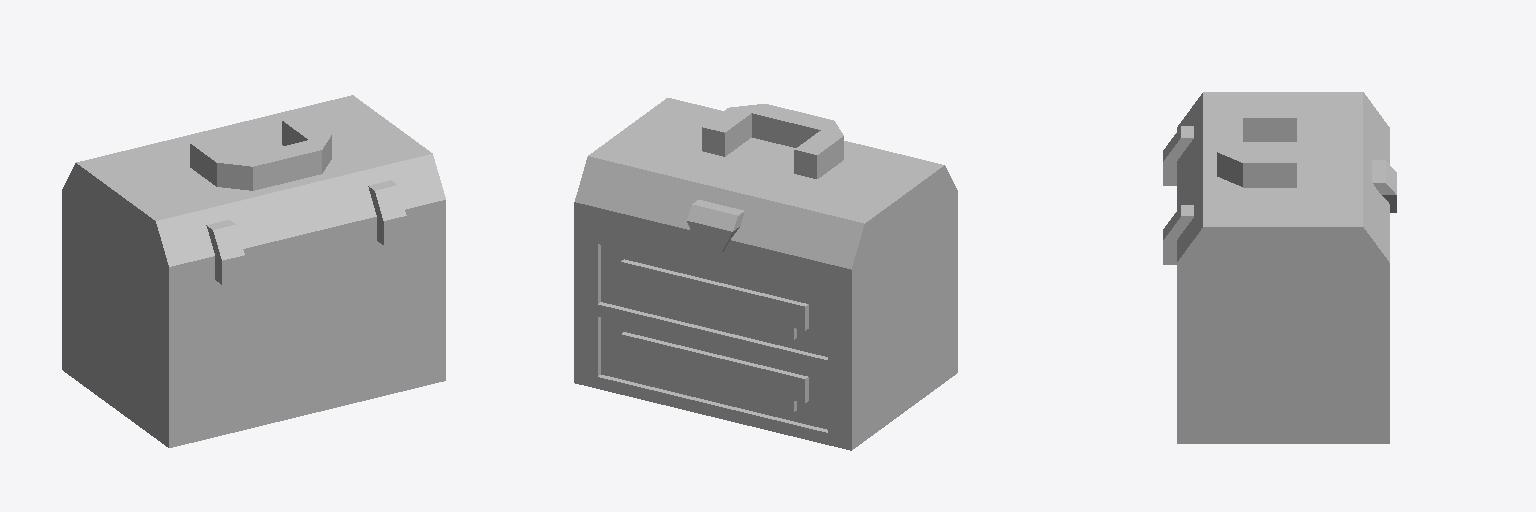
File: toolbox.obj
3 renders of one model, left to right at view 1: azimuth 30°, elevation 25°; view 2: azimuth 150°, elevation 25°; view 3: azimuth 270°, elevation 25°, orthographic.
Visible parts, largest first — view 1: cube; view 2: cube; view 3: cube.
Boxes of the visible parts, box(x1,y1,x2,y2) form: cube: box(62, 95, 445, 447); cube: box(574, 98, 957, 450); cube: box(1163, 92, 1396, 443).
Size of the model in its own units: 0.75 by 0.625 by 0.5469.